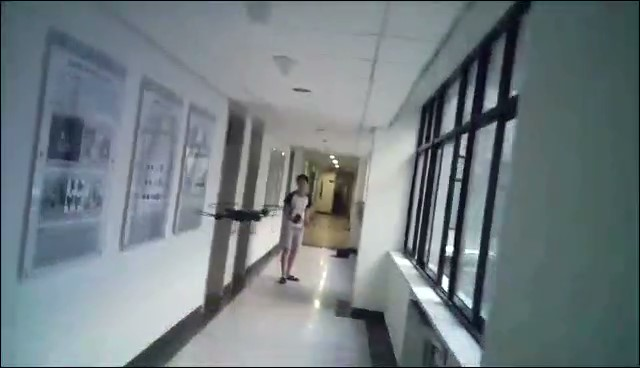drone: (194, 202, 288, 239)
person: (277, 172, 313, 288)
